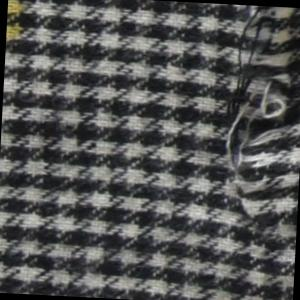Damage: (202, 4, 300, 300)
Stain: (6, 1, 35, 46)
